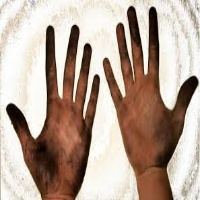ring: (115, 21, 134, 91), (77, 37, 91, 117)
